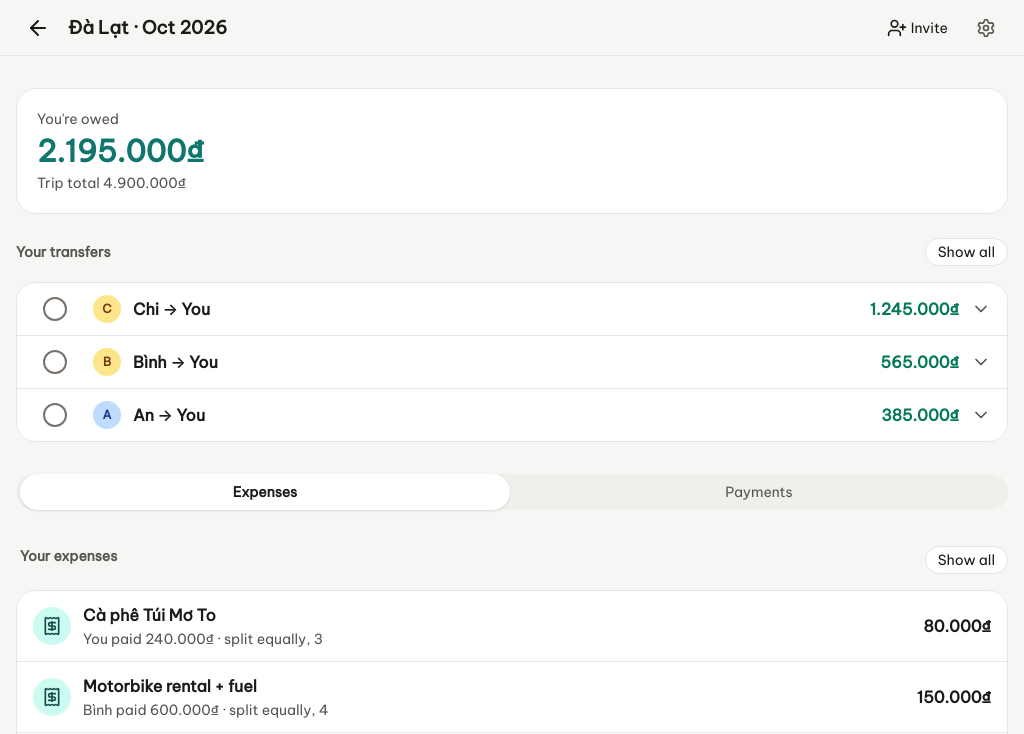
Test: crossing 1024px with a QR row open › keeps the member row open, with its QR, both ways
The image size is (1024, 734).
Click the button "A An → You 385.000₫" at point(169, 415), box 77,389 -> 1007,441
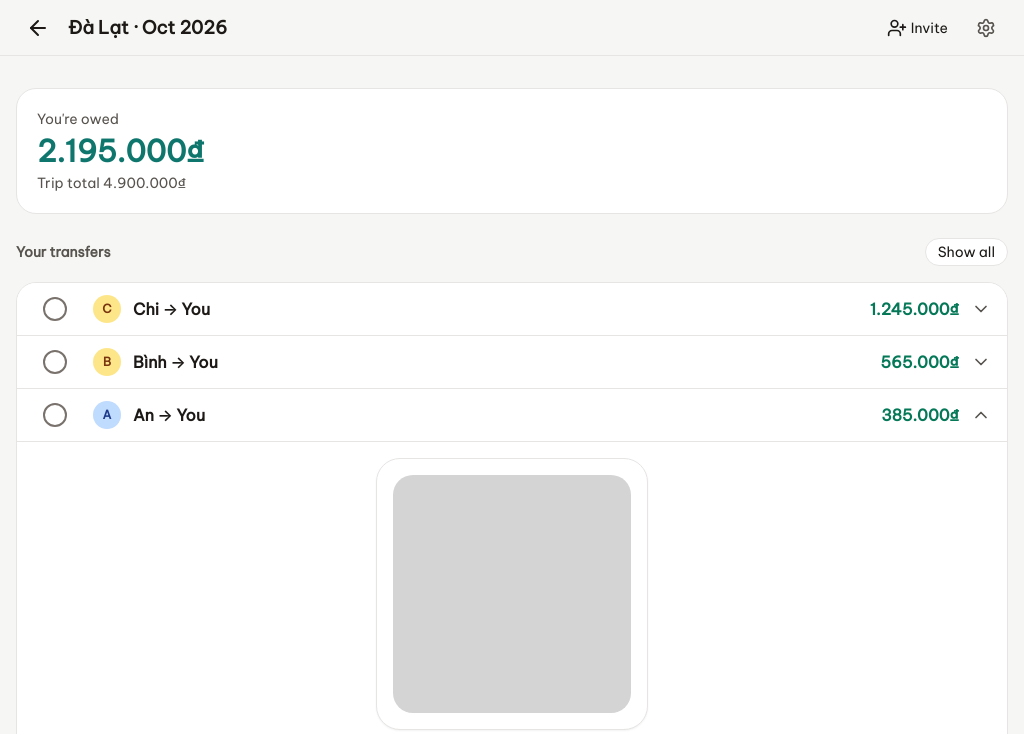
Expected: the button "A An → You 385.000₫" is expanded, 77,389 -> 1007,441
